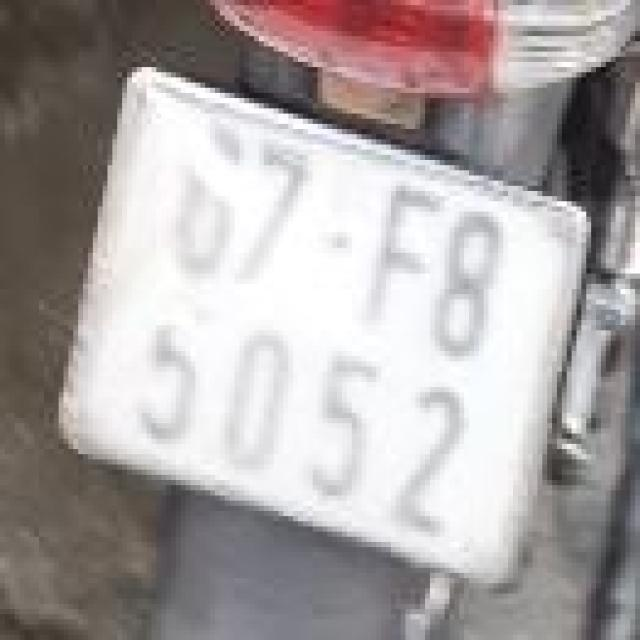0: (220, 312, 298, 493)
2: (391, 374, 474, 555)
5: (117, 286, 210, 452), (306, 330, 384, 511)
6: (162, 111, 240, 281)
7: (247, 132, 315, 302)
8: (432, 199, 516, 369)
F: (354, 165, 442, 330)
